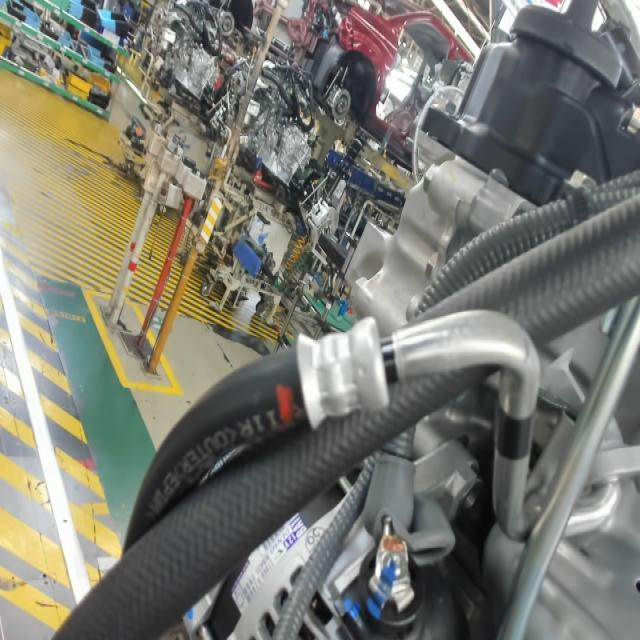Alternator-BA1: (283, 512, 308, 551)
Hose Discharge-HT: (494, 412, 536, 467)
